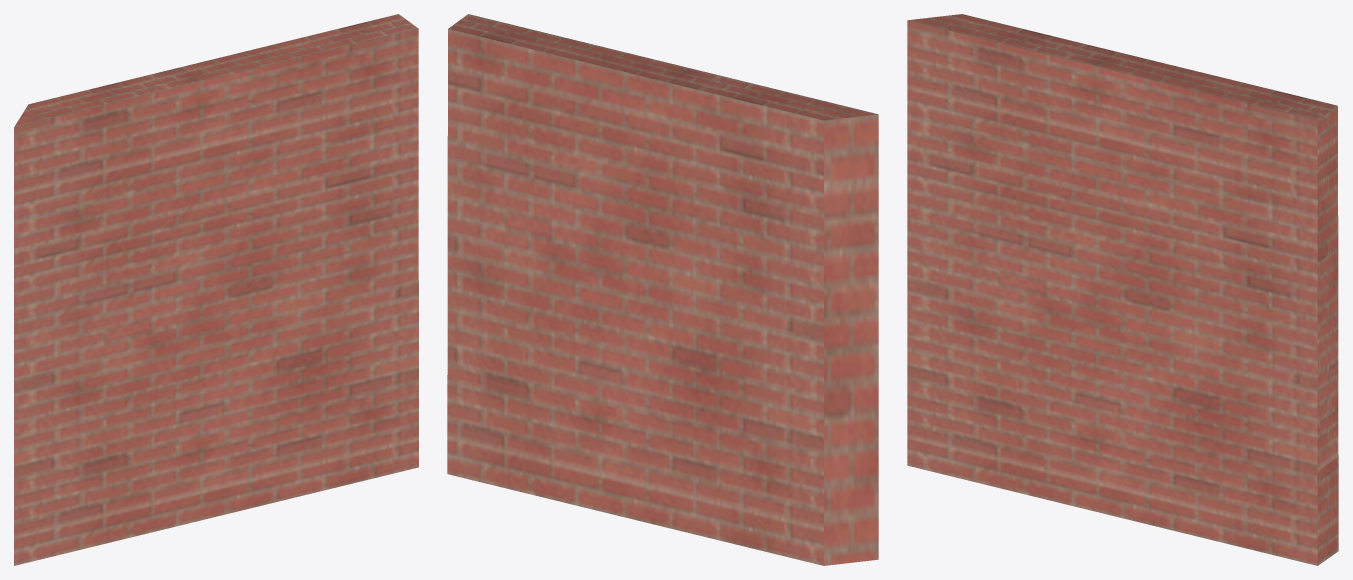
Rendered from bushes16.glb.
3 views of the same model, side by side, from view 1: azimuth 30°, elevation 25°; view 2: azimuth 150°, elevation 25°; view 3: azimuth 330°, elevation 25° (orthographic).
Parts seen in each view (by area): view 1: bushes16; view 2: bushes16; view 3: bushes16.
Boxes of the visible parts, x1=… form: bushes16: x1=14, y1=14, x2=418, y2=565; bushes16: x1=447, y1=14, x2=878, y2=565; bushes16: x1=907, y1=14, x2=1338, y2=565.
Bounding box in the file's own units: 756 × 783 × 64.83.
Materials: 1 (1 with a texture image).
